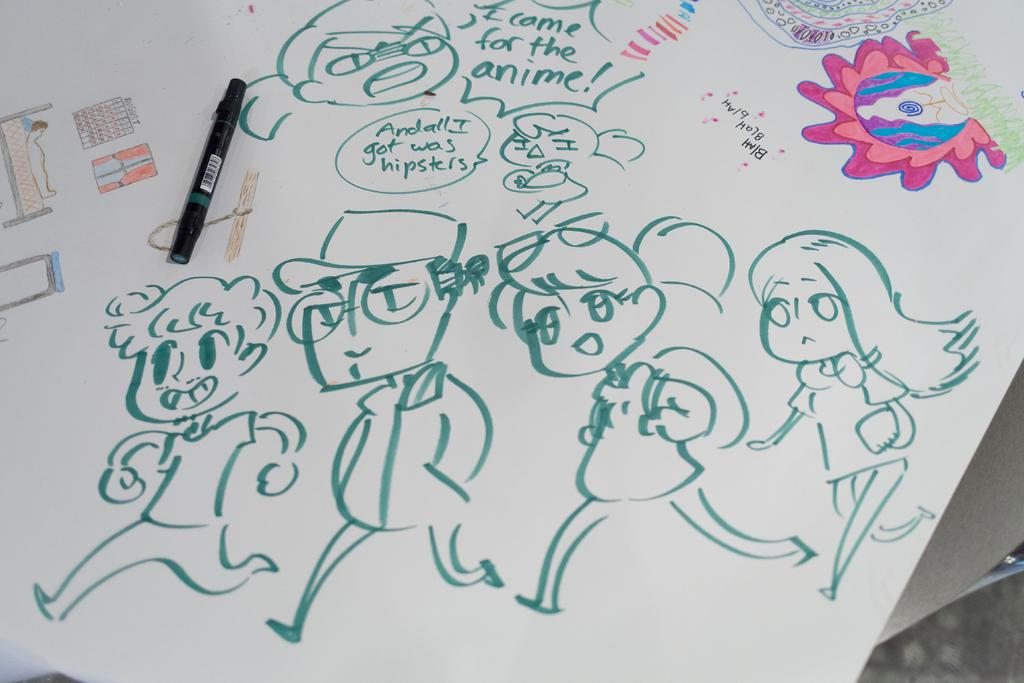pen: (177, 74, 244, 268)
